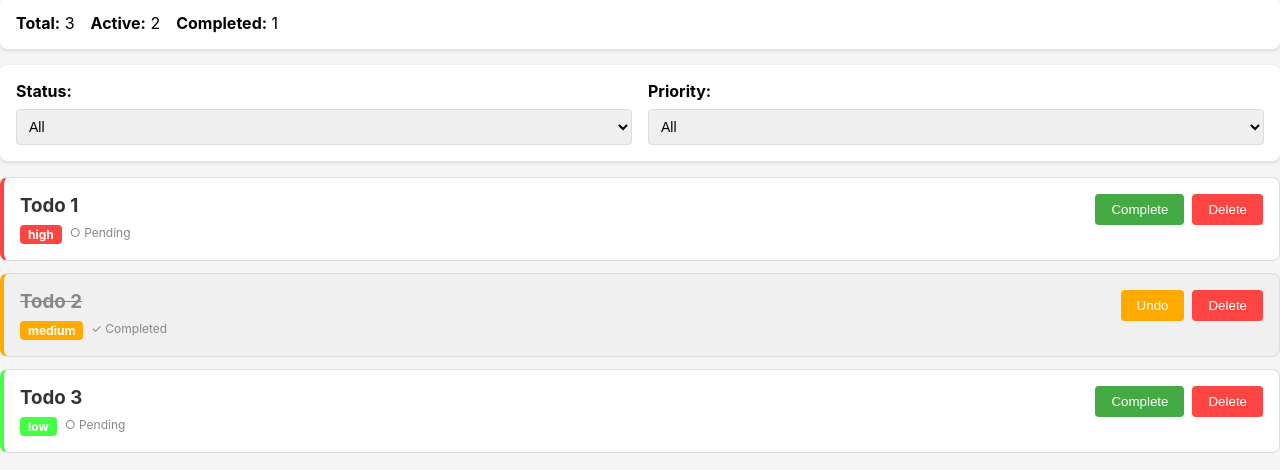
Test: TodoList Component › filters todos by completed status
Select "Completed" in the dropdown with test id "status-filter" at (324, 127), box top-left (16, 109), bottom-right (632, 145)
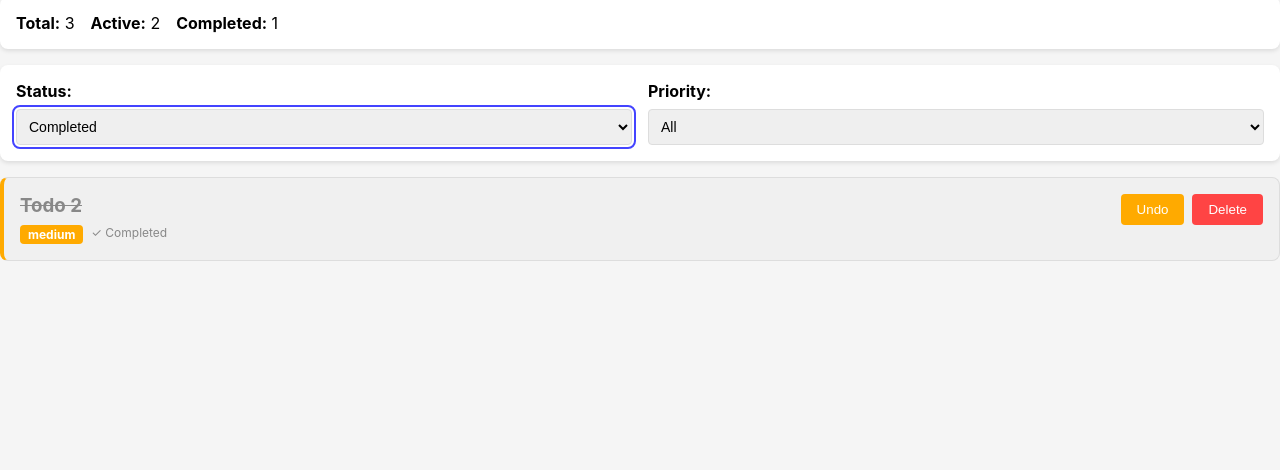
Expected: the heading "Todo 2" is shown, top-left (20, 194), bottom-right (82, 217)
Expected: the heading "Todo 1" is gone
Expected: the heading "Todo 3" is gone
